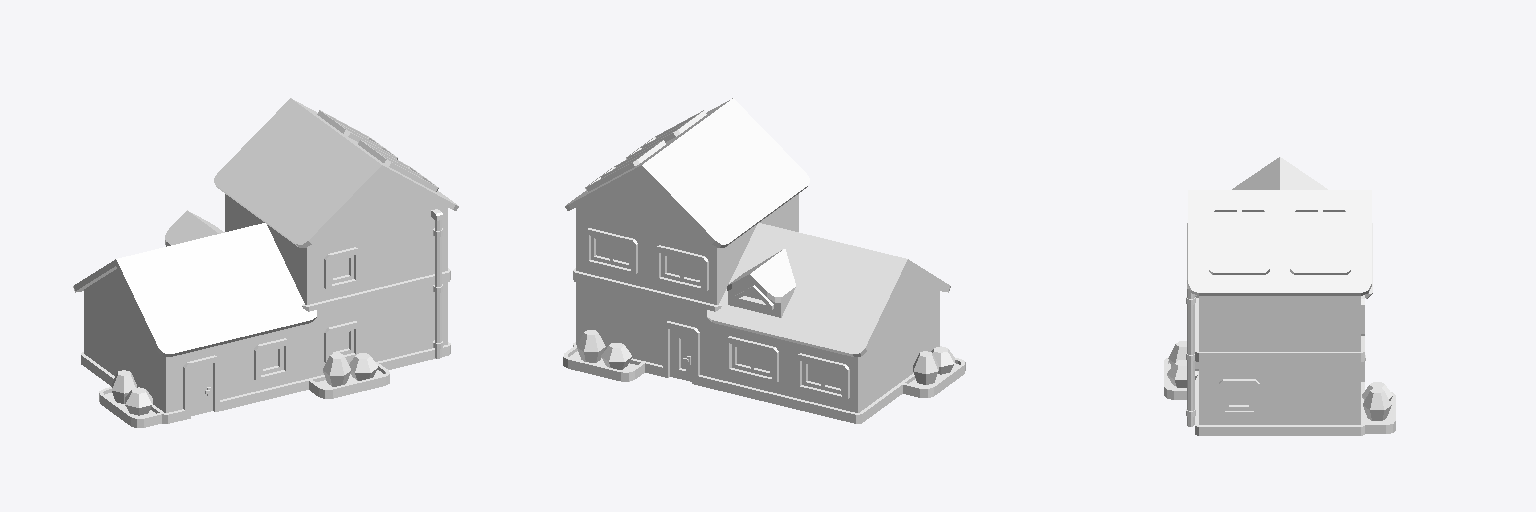
Rendered from suburban_building-type-b.obj.
The picture shows the model from 3 angles: view 1: azimuth 30°, elevation 25°; view 2: azimuth 150°, elevation 25°; view 3: azimuth 270°, elevation 25°; orthographic projection.
Parts seen in each view (by area): view 1: building-type-b; view 2: building-type-b; view 3: building-type-b.
Boxes of the visible parts, box(x1,y1,x2,y2) form: building-type-b: box(73, 98, 458, 427); building-type-b: box(563, 98, 965, 423); building-type-b: box(1164, 157, 1395, 435).
Bounding box in the file's own units: 1.83 × 1.14 × 1.14.